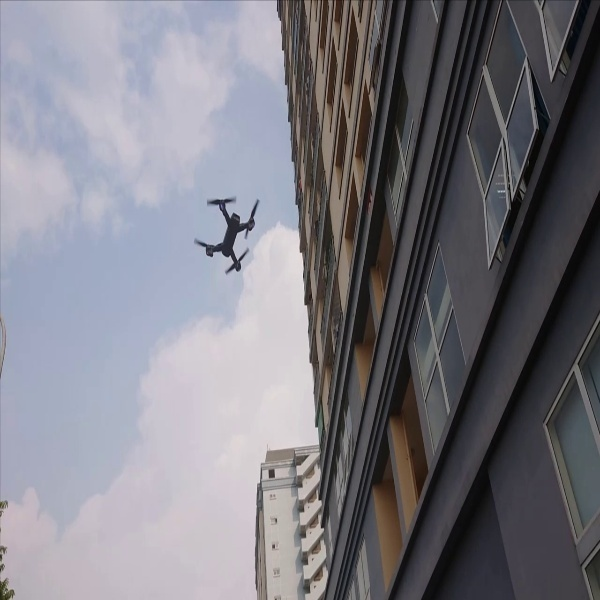drone: (187, 176, 267, 280)
